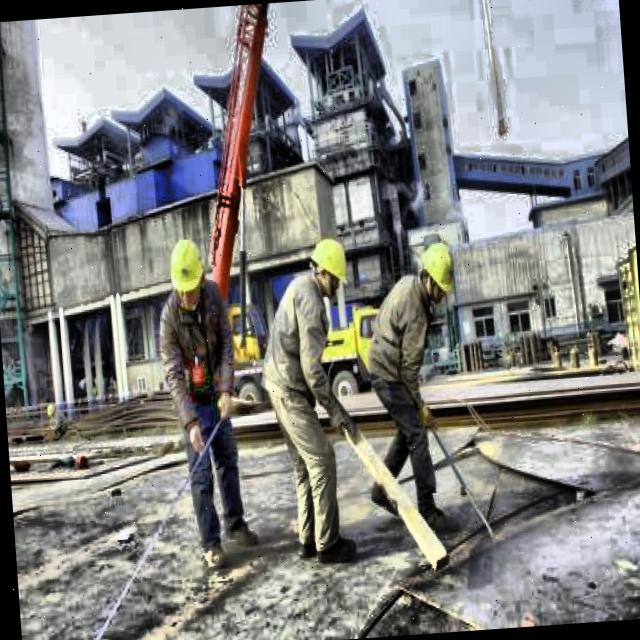helmet: (304, 230, 352, 302), (416, 235, 460, 309), (166, 235, 204, 308)
